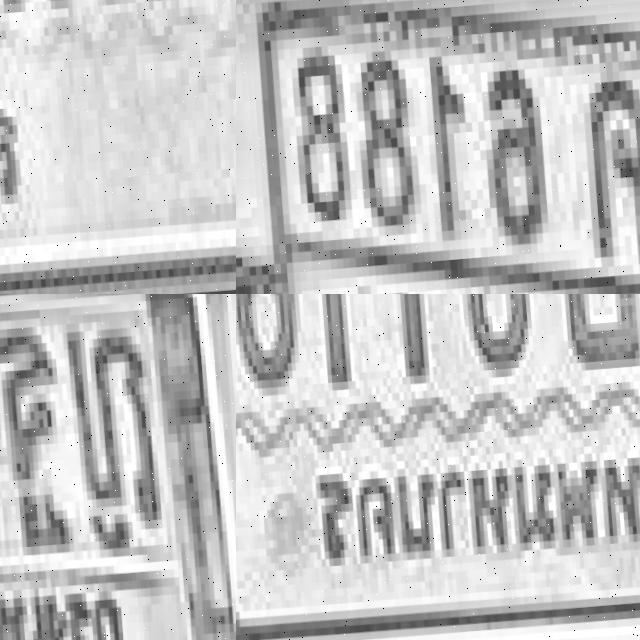license-plate: (236, 294, 640, 640), (241, 0, 640, 294), (0, 294, 236, 640), (0, 0, 236, 294)
